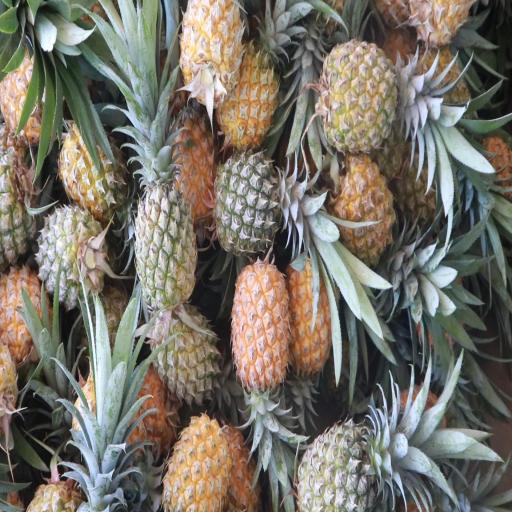------------------------------: (132, 146, 198, 310), (322, 37, 413, 153), (148, 305, 220, 408), (56, 122, 124, 218)
Pineapple - v8 v1: (160, 104, 222, 230), (232, 263, 290, 391), (221, 34, 284, 143), (286, 258, 340, 383), (180, 0, 247, 99), (337, 157, 398, 264), (162, 420, 234, 509)
